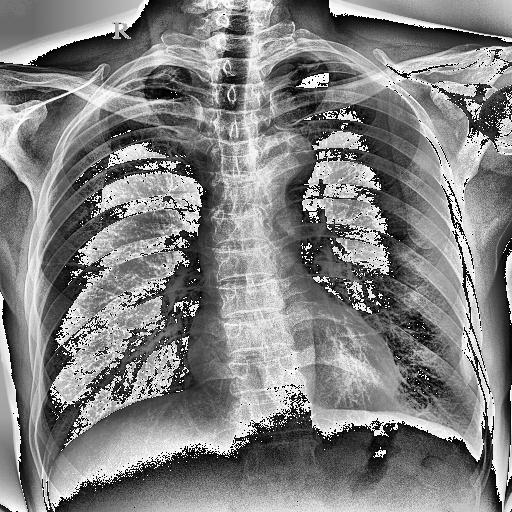13- Pulmonary fibrosis: (46, 247, 122, 284), (34, 252, 117, 276)
9- Other lesion: (34, 254, 120, 282)
